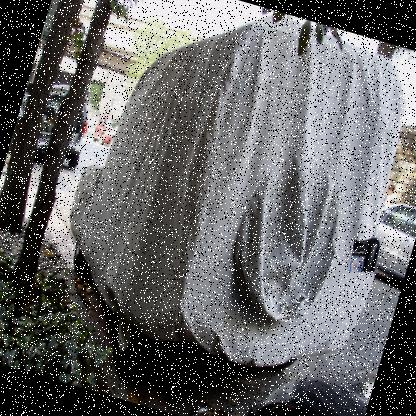Car: (241, 333, 380, 415), (8, 83, 96, 174), (360, 195, 415, 285), (92, 112, 124, 148), (18, 92, 33, 120)
